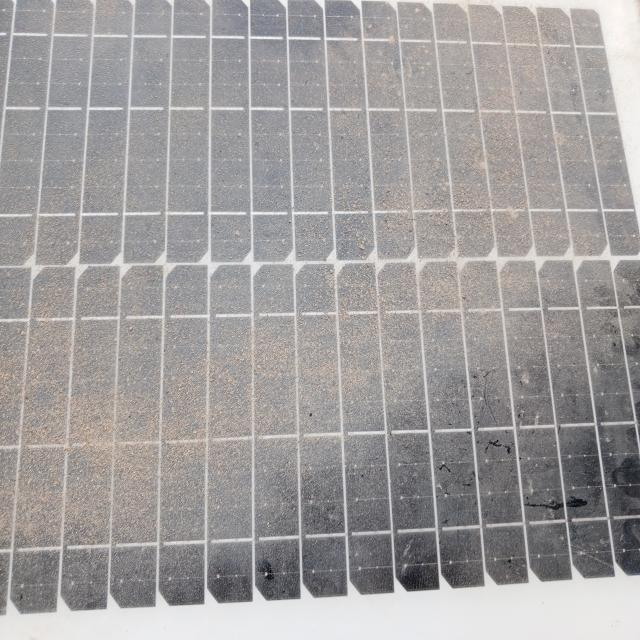Anomaly Solar Panel: (3, 3, 635, 622)
Surface Contaminant: (11, 8, 622, 610)
